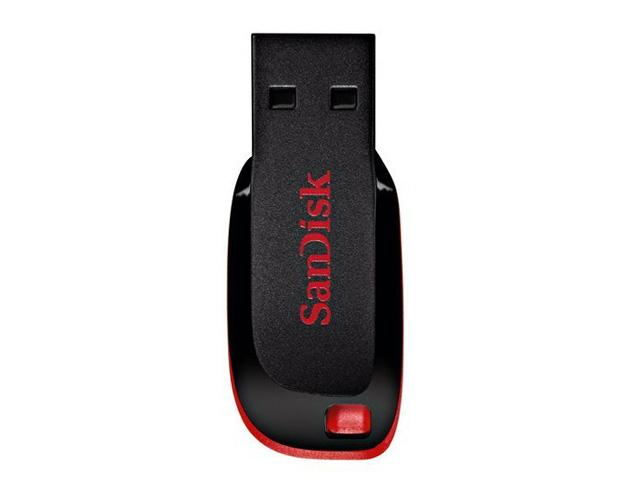USB Flash Drive: (226, 33, 407, 461)
